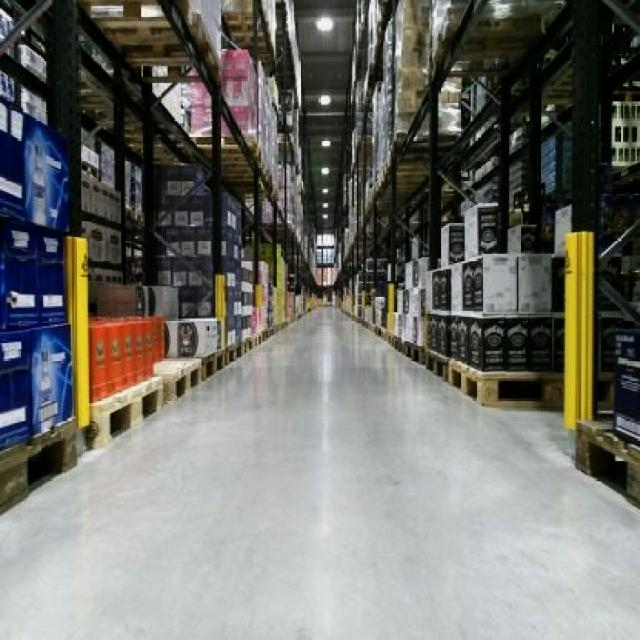floor: (0, 306, 637, 637)
